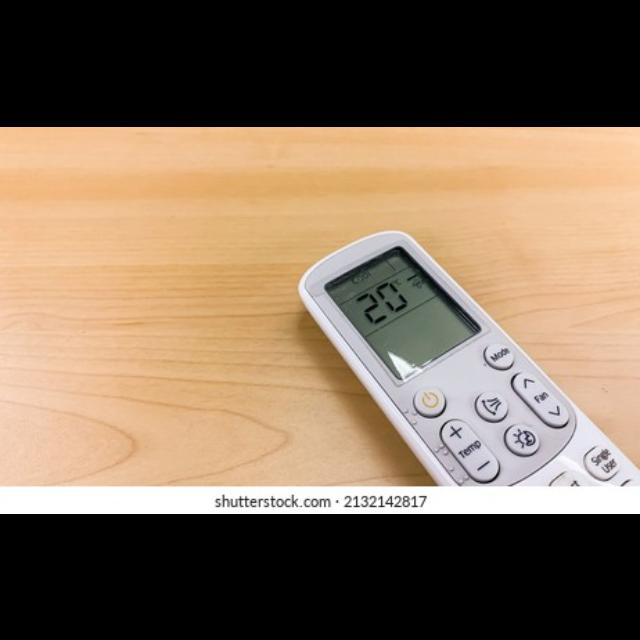TV-Remote-Control: (296, 230, 640, 488)
